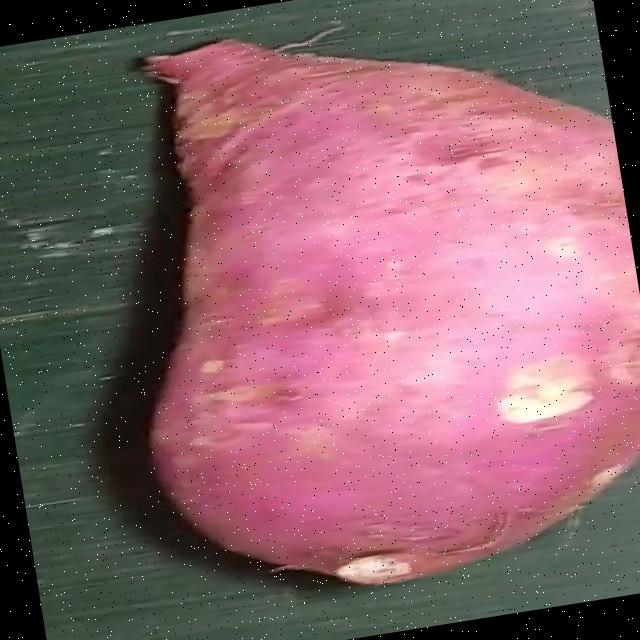Sweet Potato: (144, 40, 640, 588)
